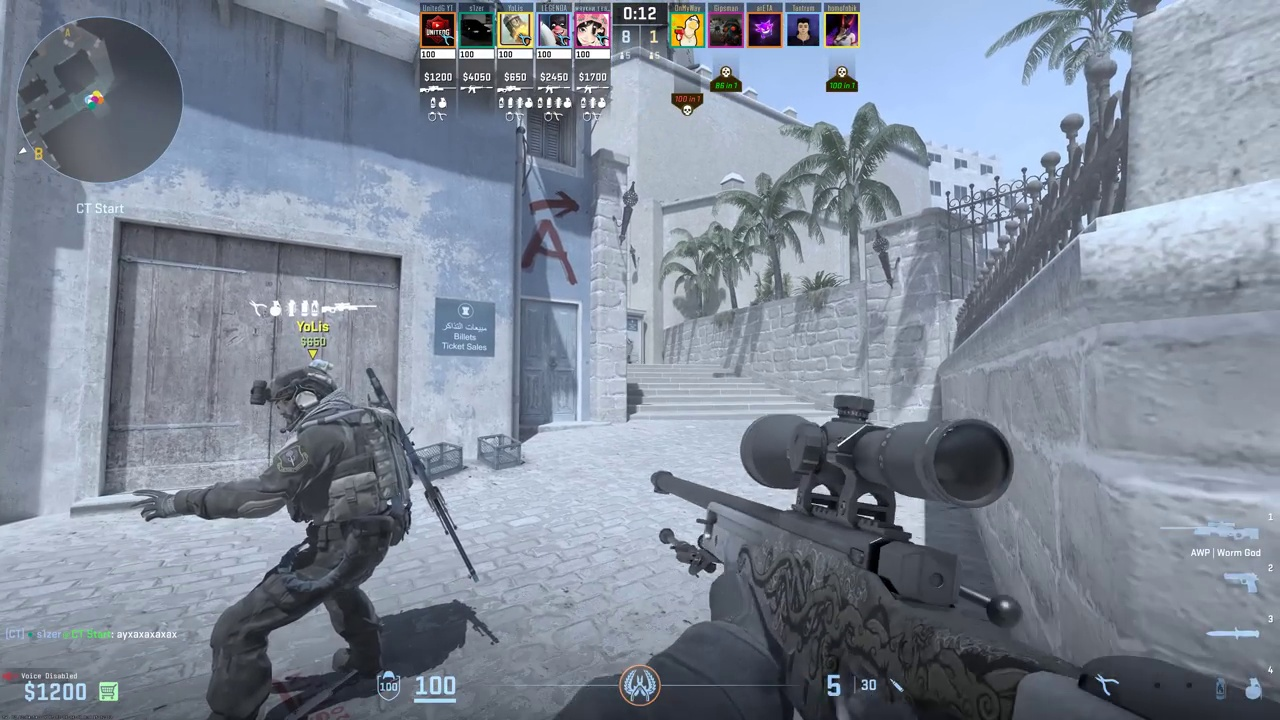CT: (217, 365, 397, 720)
